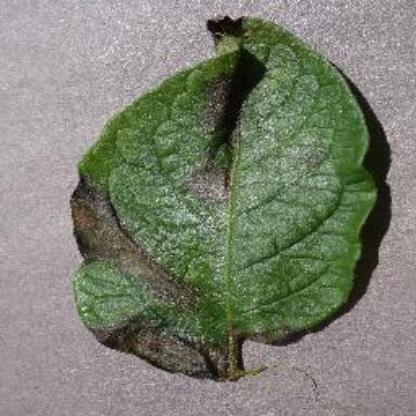Late-Blight: (70, 15, 396, 384)
